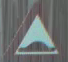Speed Breaker ahead: (2, 4, 62, 55)
